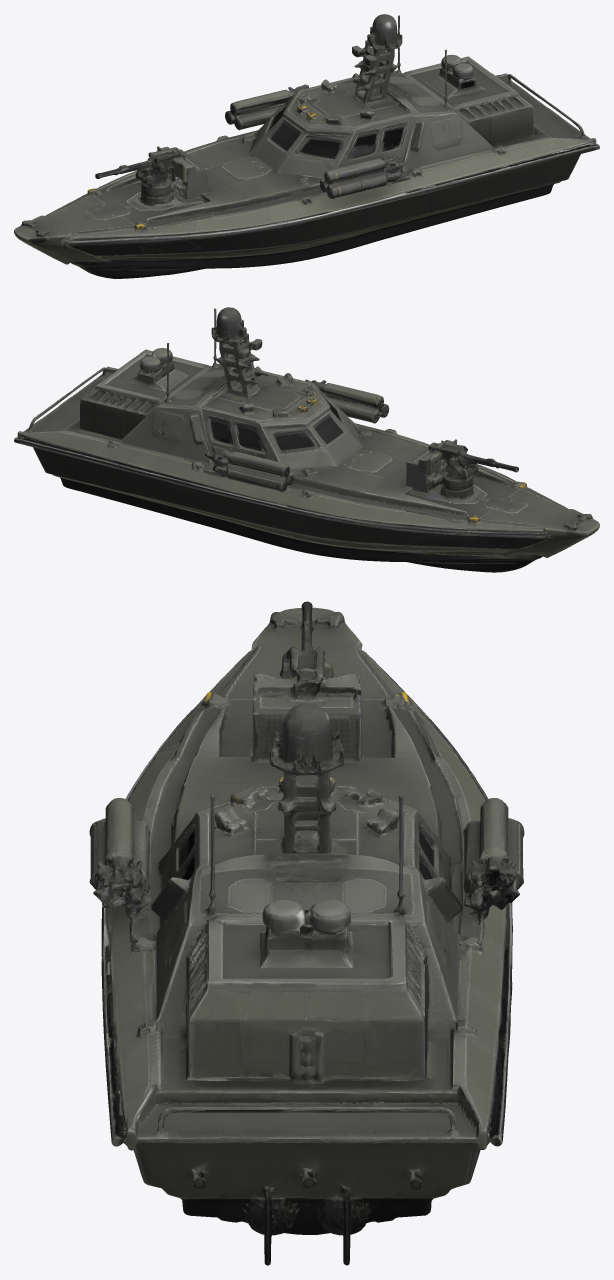
File: irgc-fast-attack-craft-meshy6-web-v1.glb
3 renders of one model, top to bottom at view 1: azimuth 30°, elevation 25°; view 2: azimuth 150°, elevation 25°; view 3: azimuth 270°, elevation 25°, orthographic. The views are drawn at different scales.
Bounding box in the file's own units: 1.9 × 0.6936 × 0.67.
1 material, 1 textured.
